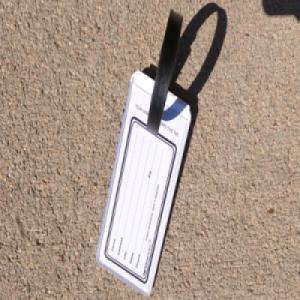LuggageTag: (94, 7, 192, 297)
